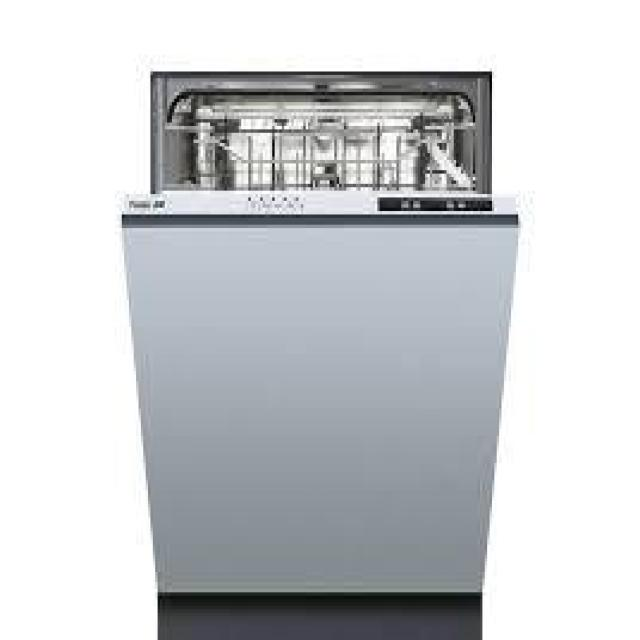dishwasher: (148, 61, 482, 637)
